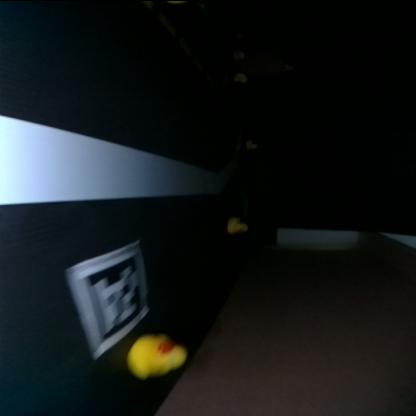Duckie: (129, 332, 186, 376), (229, 217, 248, 233), (234, 72, 248, 82), (246, 142, 258, 147), (235, 51, 245, 57)
QR code: (76, 244, 148, 352)
